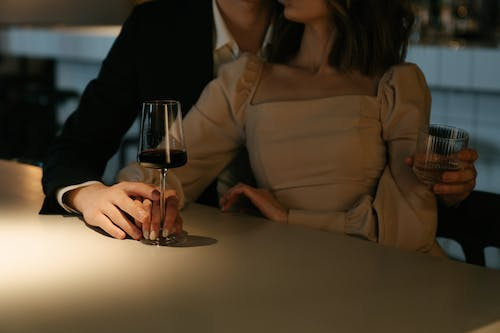alcohol: (135, 99, 189, 247)
